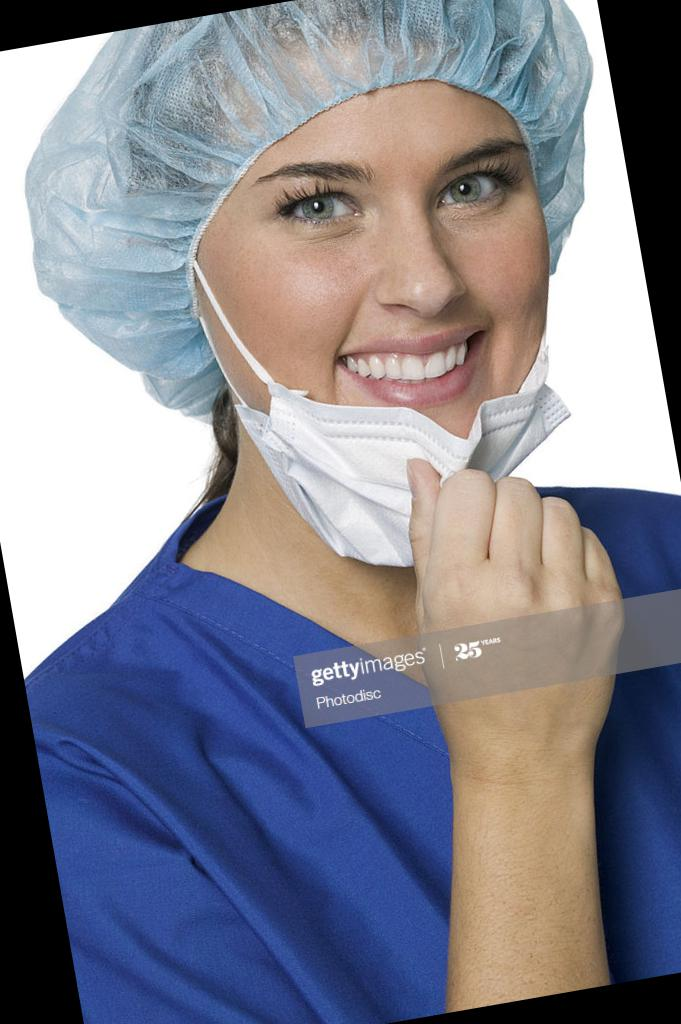mask_weared_incorrect: (251, 122, 571, 538)
